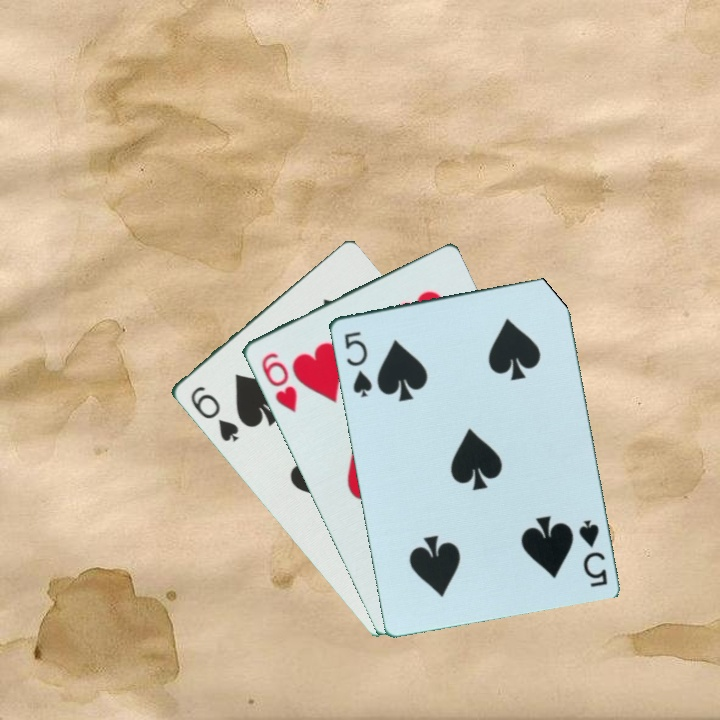5s: (574, 515, 610, 590), (340, 327, 375, 400)
6h: (257, 348, 300, 416)
6s: (186, 382, 241, 445)
